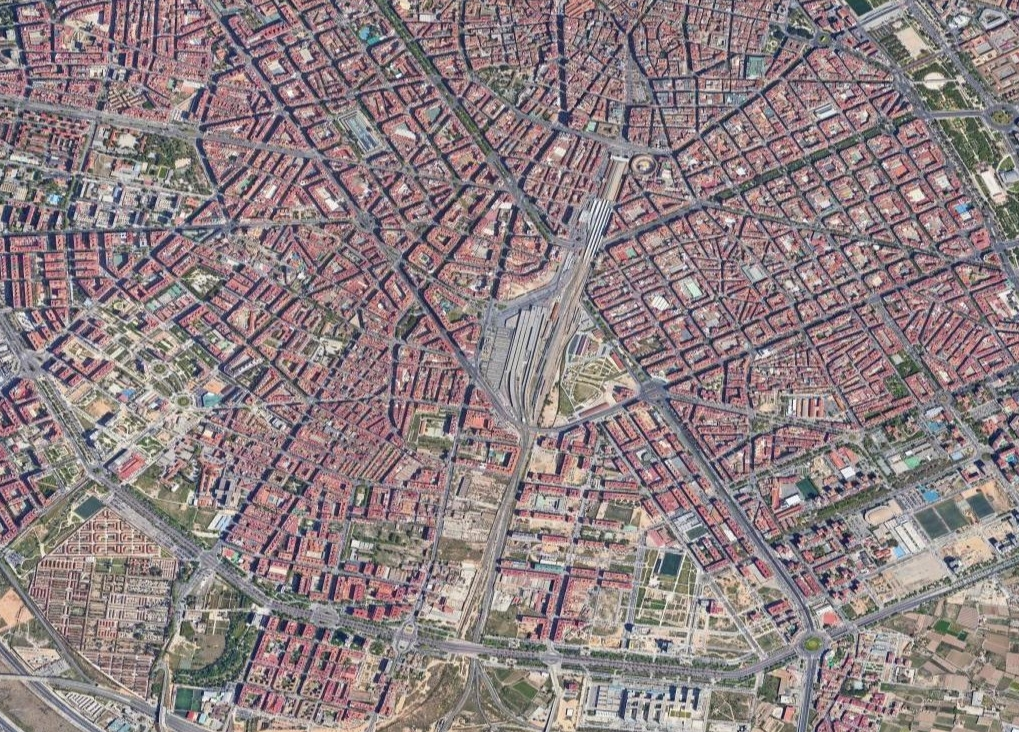bridge: (153, 703, 170, 727)
train_station: (492, 294, 599, 424)
